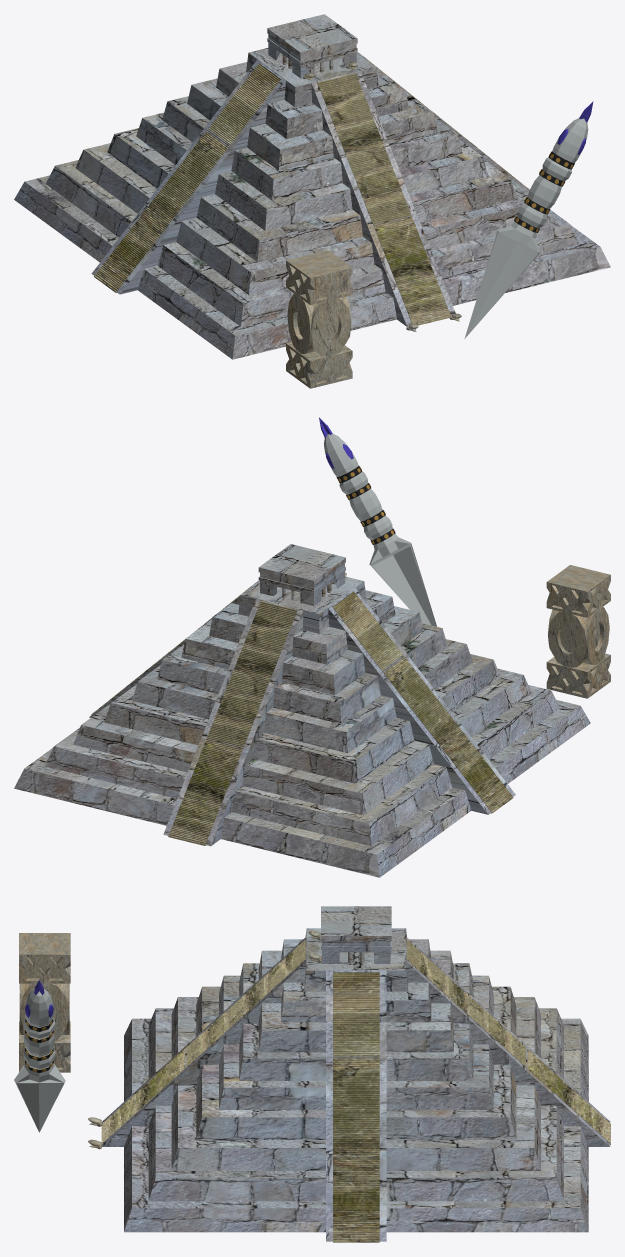
3 views of the same model, one above another, from view 1: azimuth 30°, elevation 25°; view 2: azimuth 150°, elevation 25°; view 3: azimuth 270°, elevation 25° (orthographic). The views are drawn at different scales.
Parts seen in each view (by area): view 1: pyramid_unwrap:pyramid:pCone6_pyramid_unwrap:pyramid:blinn2_, pyramid_unwrap:pyramid:pCone6, Pillar_unwrap:pillar:pSphere6, dagger_unwrap:dagger:pSphere4, dagger_unwrap:dagger:pSphere4_dagger_unwrap:dagger:lambert3_; view 2: pyramid_unwrap:pyramid:pCone6_pyramid_unwrap:pyramid:blinn2_, pyramid_unwrap:pyramid:pCone6, Pillar_unwrap:pillar:pSphere6, dagger_unwrap:dagger:pSphere4; view 3: pyramid_unwrap:pyramid:pCone6_pyramid_unwrap:pyramid:blinn2_, pyramid_unwrap:pyramid:pCone6, Pillar_unwrap:pillar:pSphere6, dagger_unwrap:dagger:pSphere4.
Boxes of the visible parts, x1,y1,x2,y2 form: pyramid_unwrap:pyramid:pCone6_pyramid_unwrap:pyramid:blinn2_: (14,14,610,359); pyramid_unwrap:pyramid:pCone6: (94,59,529,331); Pillar_unwrap:pillar:pSphere6: (286,250,352,388); dagger_unwrap:dagger:pSphere4: (464,101,593,338); dagger_unwrap:dagger:pSphere4_dagger_unwrap:dagger:lambert3_: (514,151,574,232); pyramid_unwrap:pyramid:pCone6_pyramid_unwrap:pyramid:blinn2_: (14,544,590,877); pyramid_unwrap:pyramid:pCone6: (91,572,513,845); Pillar_unwrap:pillar:pSphere6: (546,565,610,698); dagger_unwrap:dagger:pSphere4: (319,417,436,626); pyramid_unwrap:pyramid:pCone6_pyramid_unwrap:pyramid:blinn2_: (102,906,610,1241); pyramid_unwrap:pyramid:pCone6: (88,930,610,1242); Pillar_unwrap:pillar:pSphere6: (19,933,70,1072); dagger_unwrap:dagger:pSphere4: (14,980,65,1132).
Size of the model in its own units: 25.91 by 12.66 by 30.37.
7 materials, 3 textured.
